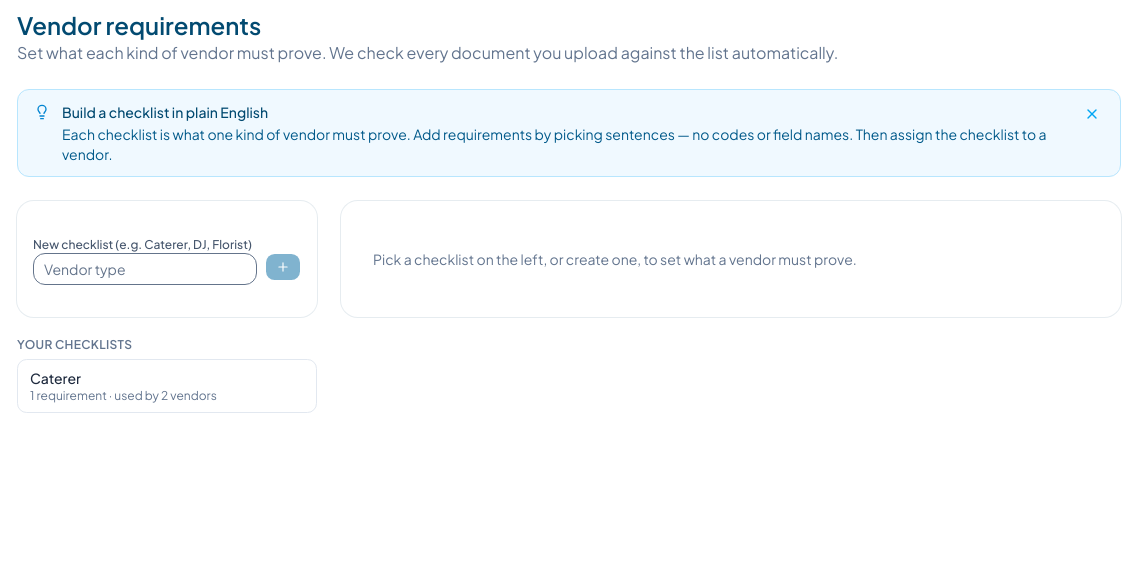
Test: RulesPage — additional-insured nudge (#400) › does not nag a licenses-only checklist that governs no certificates of insurance
Click the button "Caterer 1 requirement · used by 2 vendors" at (167, 386), box [17, 359, 317, 413]
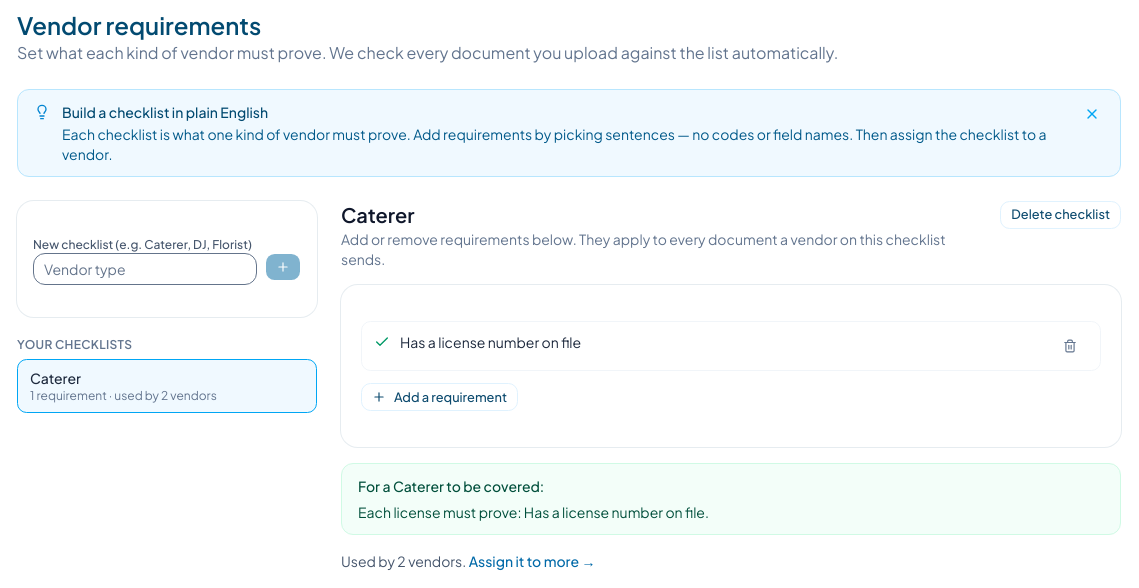
Result: the button "Add a requirement" is shown at [361, 383, 518, 411]
